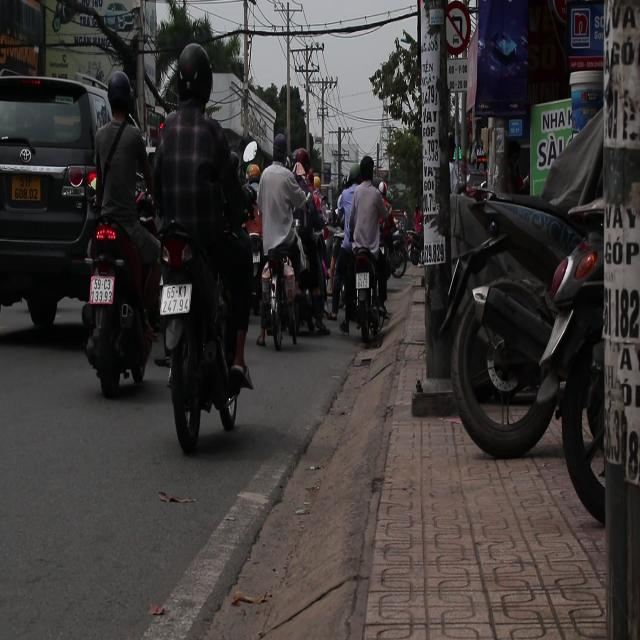car: (1, 72, 109, 332)
motorbike: (156, 193, 253, 452), (82, 215, 158, 395), (250, 199, 320, 365), (344, 218, 393, 368)
